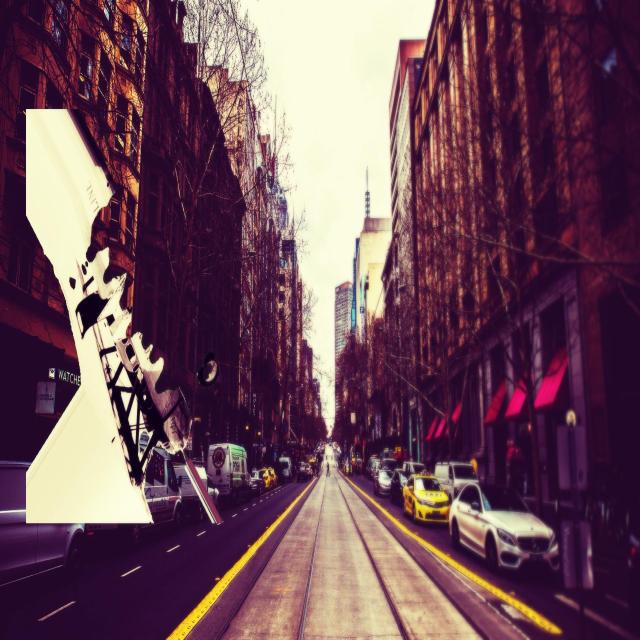airplane: (23, 105, 221, 535)
